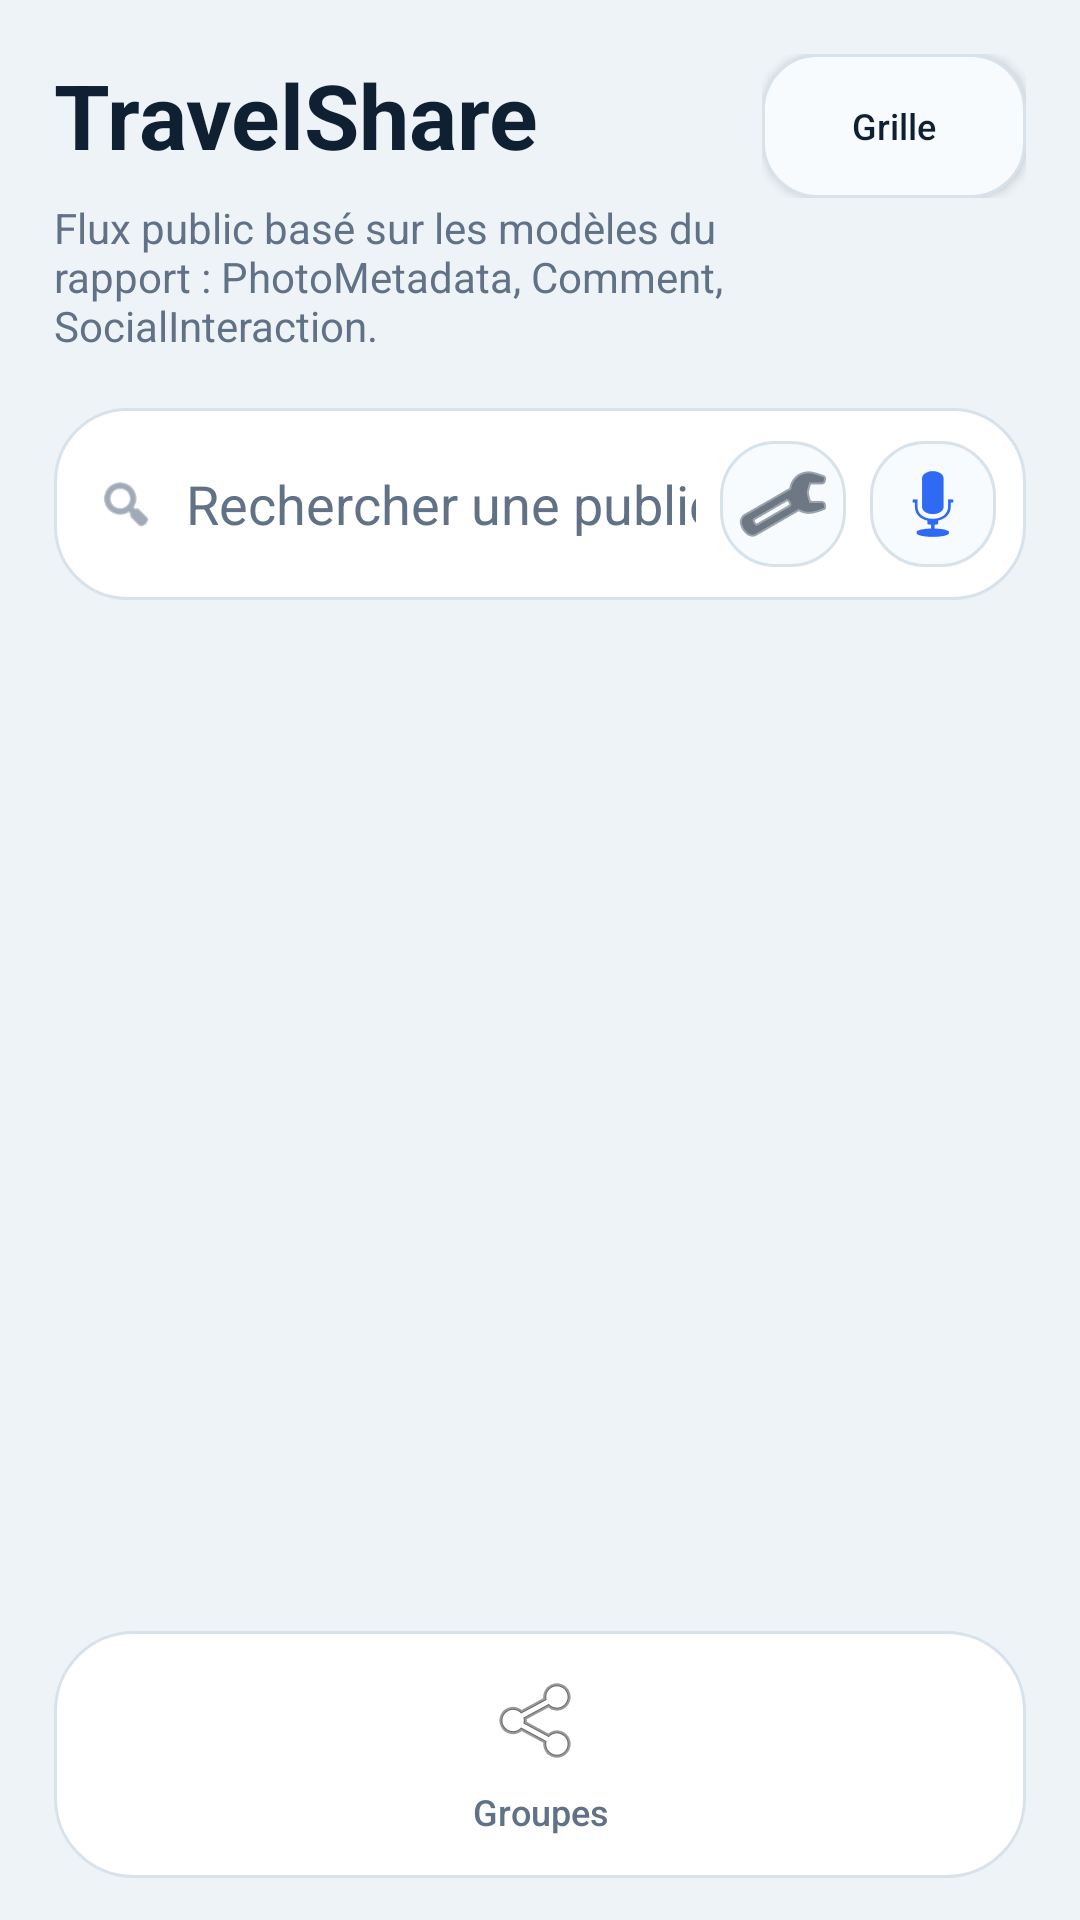

Icon click points for this 1080px x 1920px phone screenshot, format (x,y):
Recherche vocale: (933,504)
search: (126,504)
